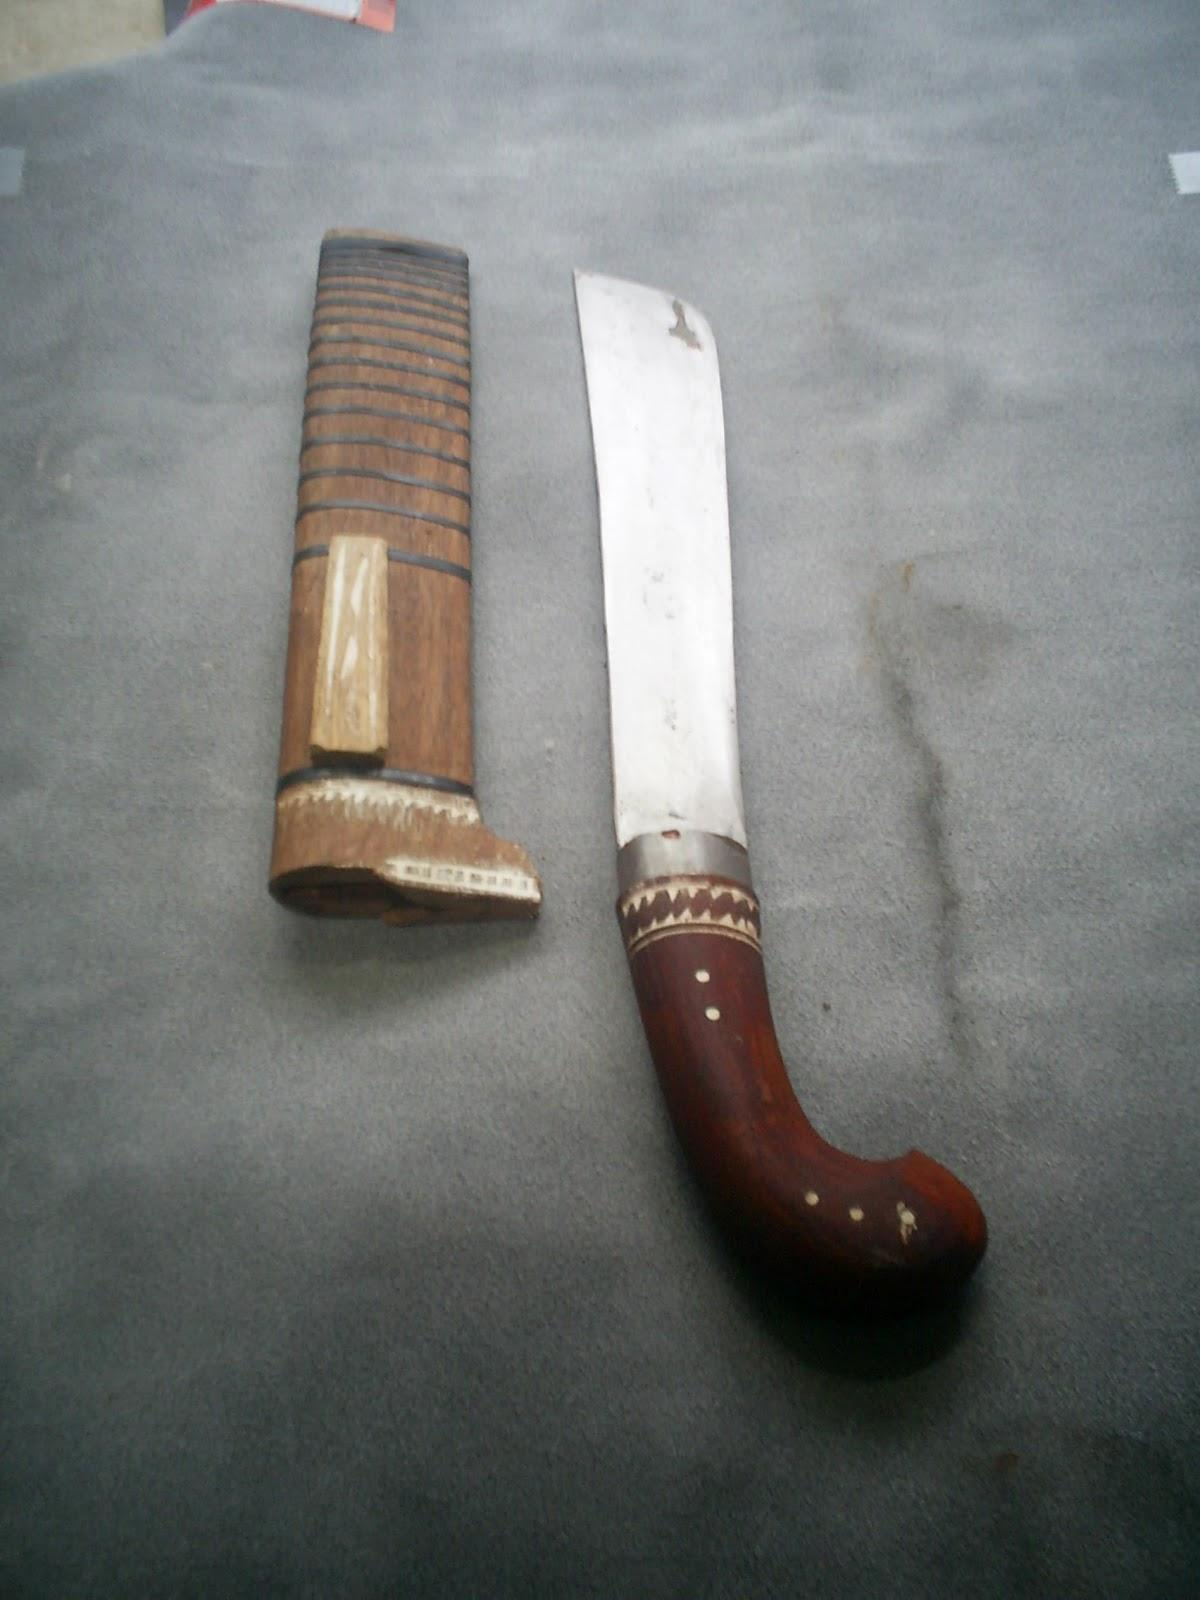facao: (574, 273, 987, 1329)
